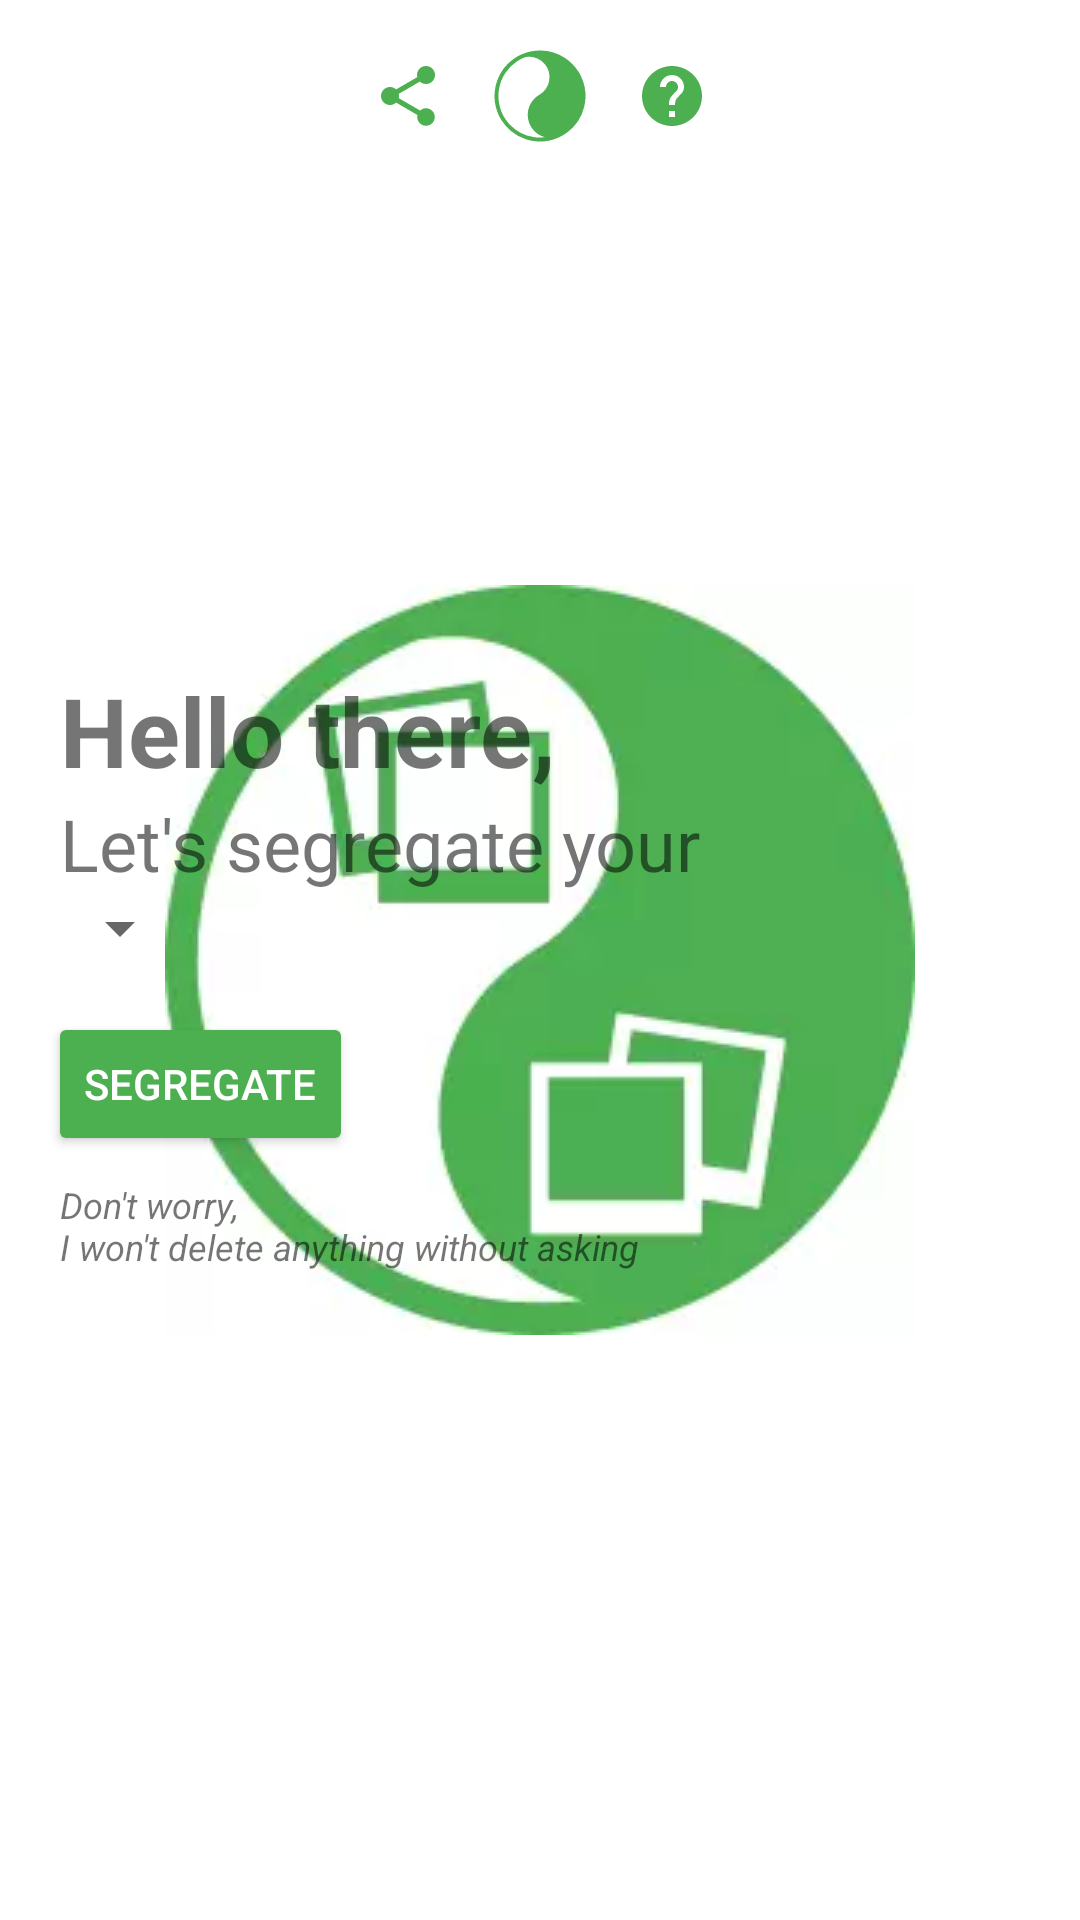

Named icons in this screenshot (1080px×1920px) and their bounding boxes, bbox=(x1, y1, x2, y2):
app: bbox=(494, 50, 586, 142)
help: bbox=(642, 66, 702, 126)
share: bbox=(381, 66, 435, 126)
